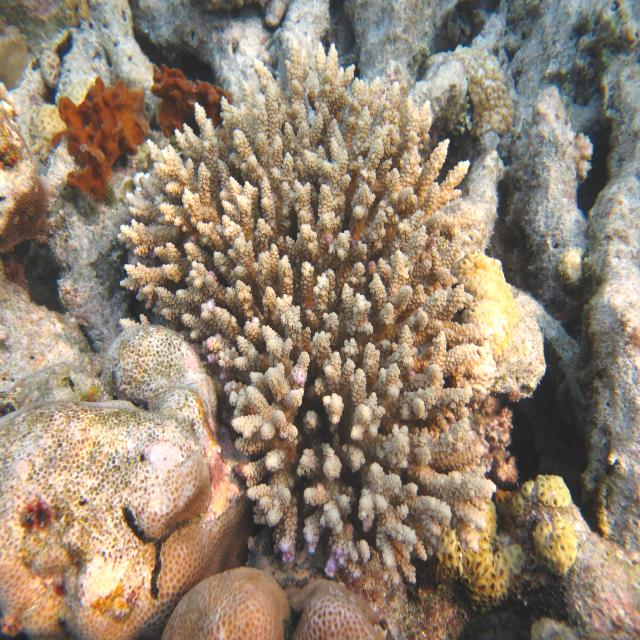Coral: (114, 35, 501, 552), (0, 322, 247, 640), (50, 67, 150, 205), (163, 565, 289, 640), (151, 61, 233, 139), (293, 591, 382, 640)
